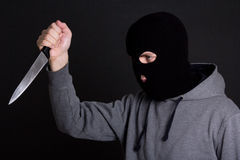knife: (5, 19, 67, 108)
